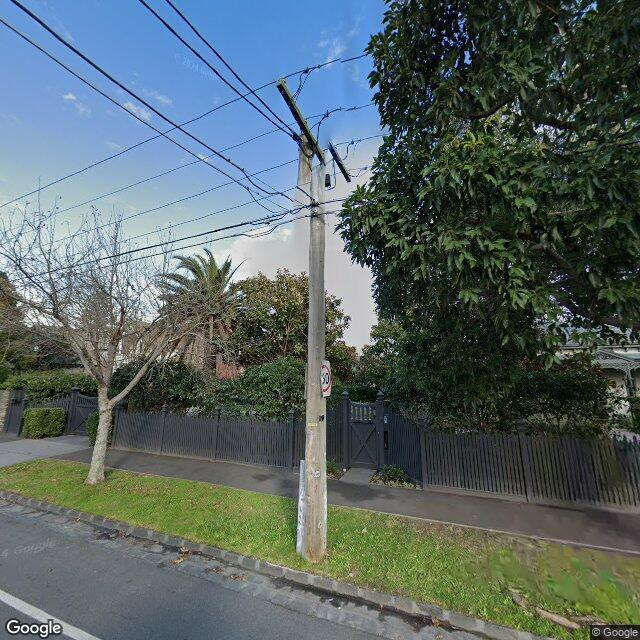crossarm: (277, 80, 351, 182)
timber-pole: (297, 133, 326, 564)
